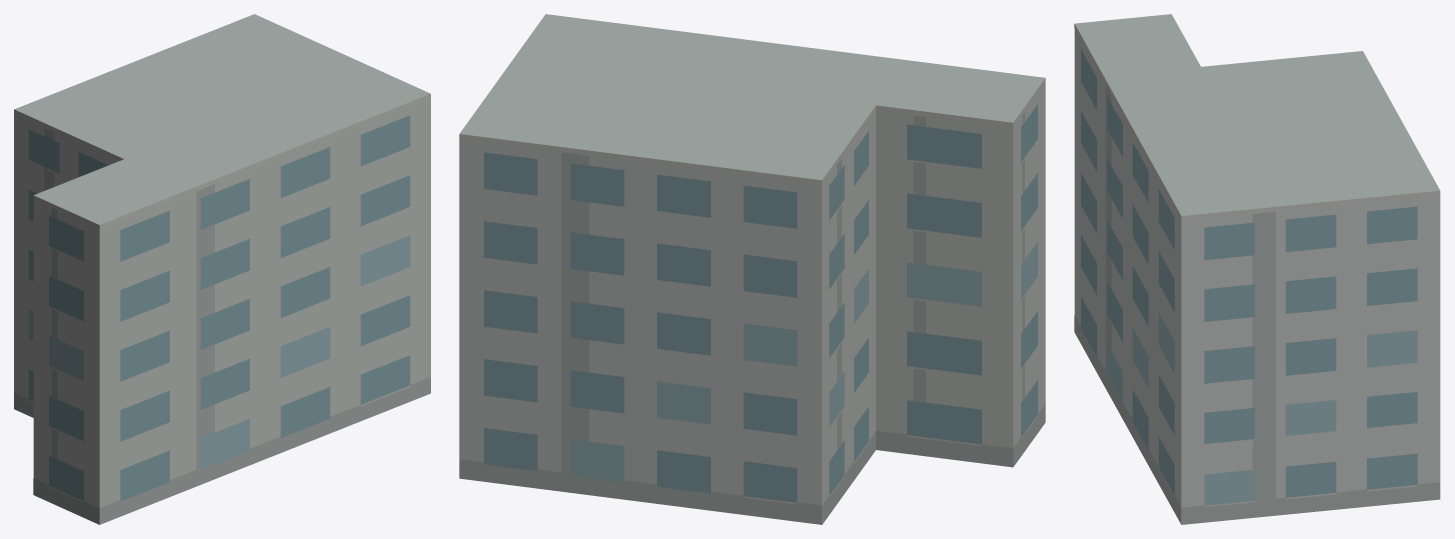
File: survey-upis-32668565.glb
3 renders of one model, left to right at view 1: azimuth 30°, elevation 25°; view 2: azimuth 150°, elevation 25°; view 3: azimuth 270°, elevation 25°, orthographic. The views are drawn at different scales.
Visible parts, largest first — view 1: survey-upis-32668565.tmp; view 2: survey-upis-32668565.tmp; view 3: survey-upis-32668565.tmp.
Boxes of the visible parts, x1=… form: survey-upis-32668565.tmp: x1=14, y1=14, x2=430, y2=524; survey-upis-32668565.tmp: x1=459, y1=14, x2=1045, y2=524; survey-upis-32668565.tmp: x1=1074, y1=14, x2=1440, y2=524.
Bounding box in the file's own units: 21.9 × 15.6 × 16.76.
